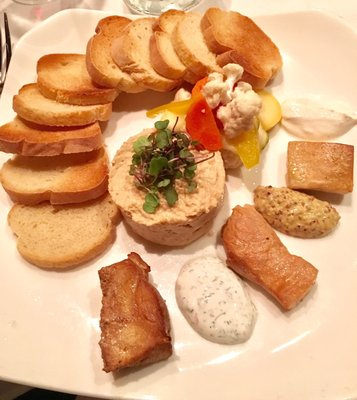soup: (107, 113, 228, 247)
